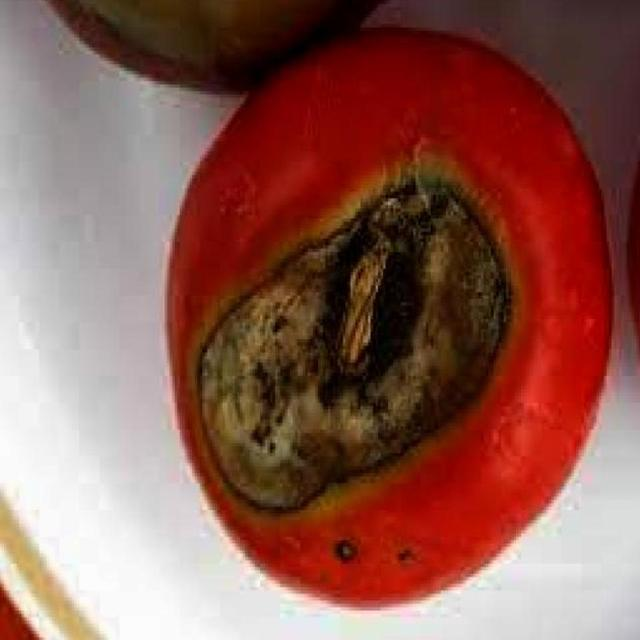Blossom End Rot Fruit: (22, 16, 266, 372)
